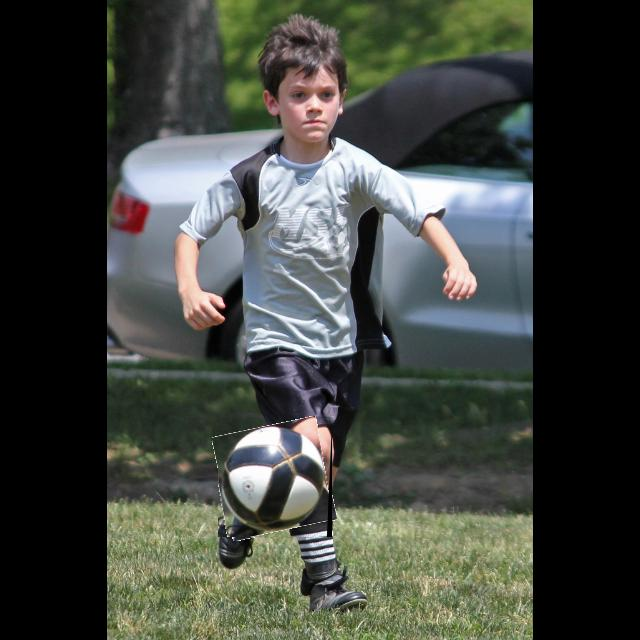Football: (218, 421, 332, 537)
